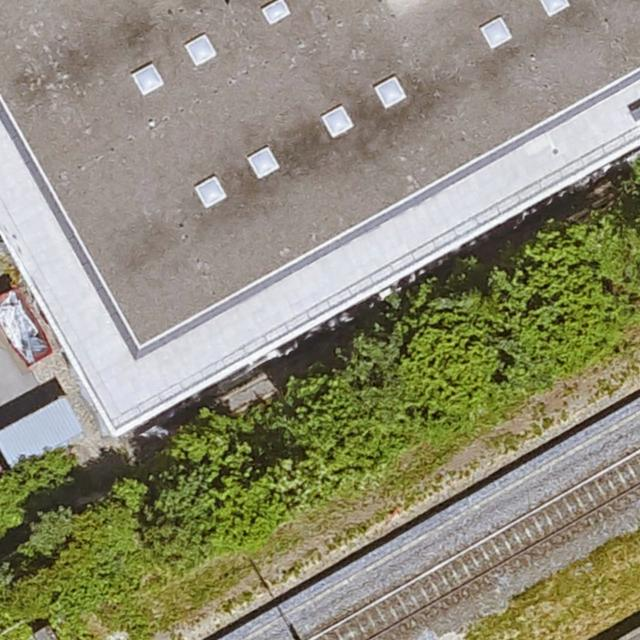tree: (512, 218, 636, 391), (373, 298, 493, 427), (147, 430, 259, 561), (32, 497, 141, 620), (262, 382, 369, 506)
